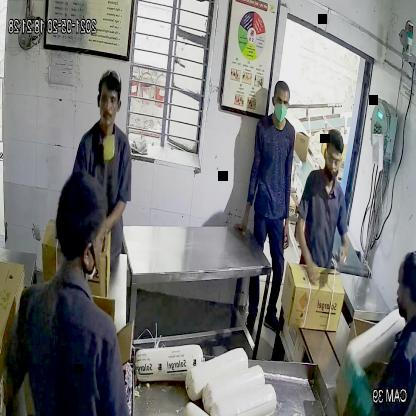goggles: (325, 151, 344, 170)
no_goggles: (96, 90, 122, 110), (273, 96, 292, 109)
